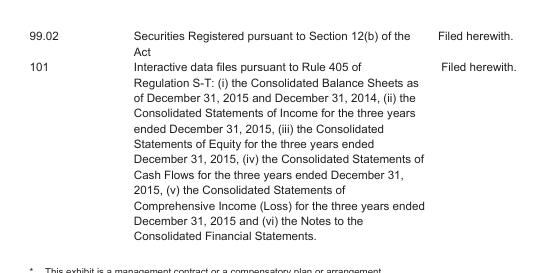table: (28, 28, 515, 241)
table column: (95, 28, 430, 241), (430, 28, 515, 241), (28, 28, 95, 241)
table column header: (28, 28, 515, 58)
table row: (28, 58, 515, 241), (28, 28, 515, 58)
